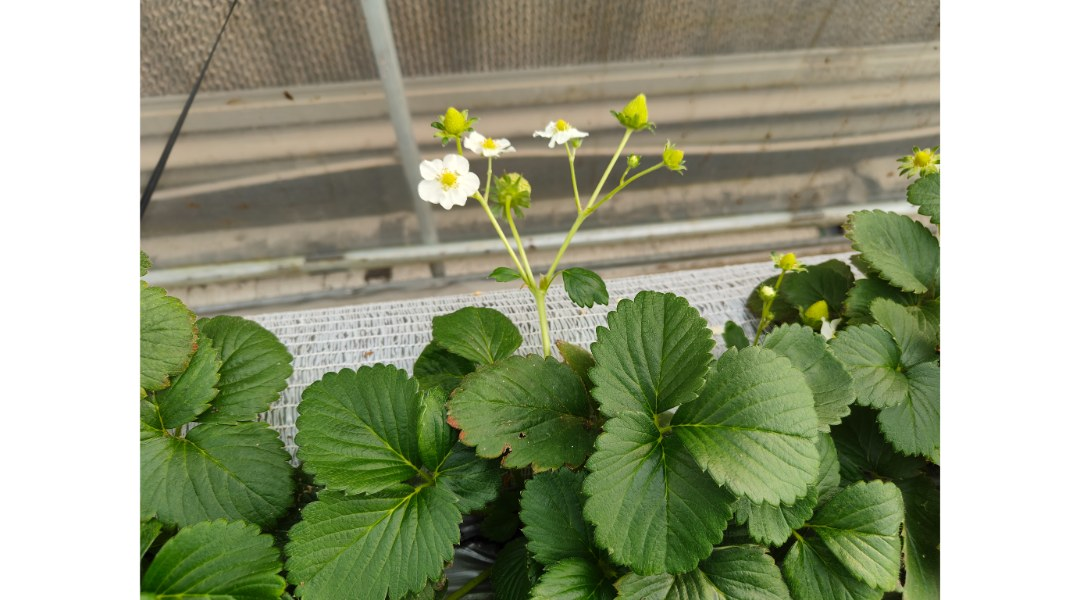berry: (601, 80, 657, 140), (892, 133, 950, 185), (641, 127, 703, 169), (421, 101, 479, 144), (471, 173, 545, 204), (764, 240, 819, 270)
flower: (404, 147, 487, 222), (525, 111, 594, 150), (454, 124, 520, 158)
strain: (478, 197, 521, 295), (597, 161, 667, 212), (505, 204, 536, 281), (549, 219, 581, 281), (533, 289, 553, 367), (564, 143, 583, 210), (610, 127, 634, 166)
